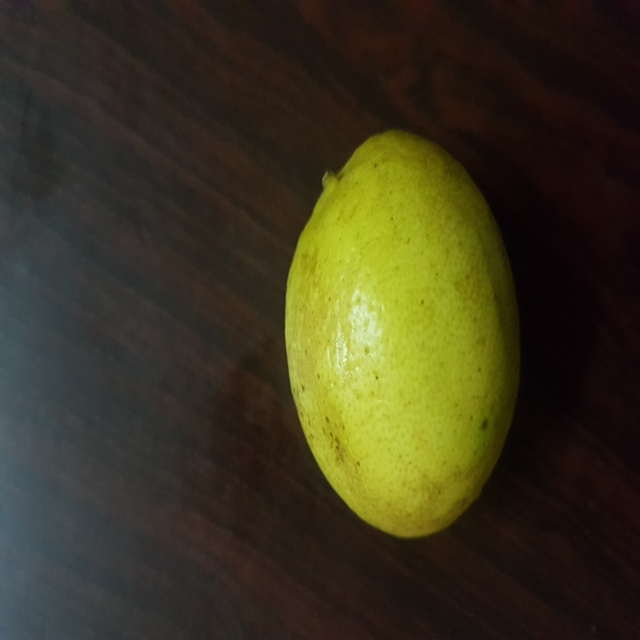lemon: (271, 115, 548, 548)
